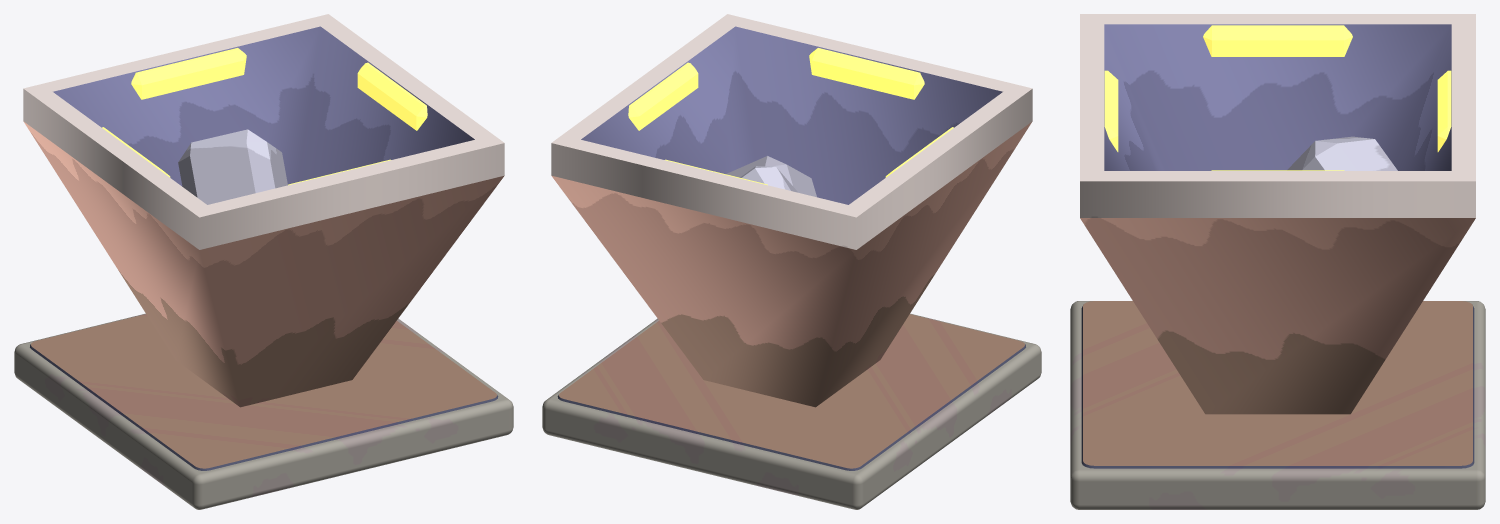
The model's file is R4X_SalvageOptimizer.glb.
The picture shows the model from 3 angles, left to right: view 1: azimuth 30°, elevation 25°; view 2: azimuth 150°, elevation 25°; view 3: azimuth 270°, elevation 25°; orthographic projection. The views are drawn at different scales.
Visible parts, largest first — view 1: R4X_SalvageOptimizer_Body; view 2: R4X_SalvageOptimizer_Body; view 3: R4X_SalvageOptimizer_Body.
Boxes of the visible parts, bbox=[...] form: R4X_SalvageOptimizer_Body: bbox=[14, 14, 513, 509]; R4X_SalvageOptimizer_Body: bbox=[542, 14, 1041, 509]; R4X_SalvageOptimizer_Body: bbox=[1070, 14, 1485, 509].
Size of the model in its own units: 0.514 by 0.45 by 0.514.
Materials: 5 (4 with a texture image).
